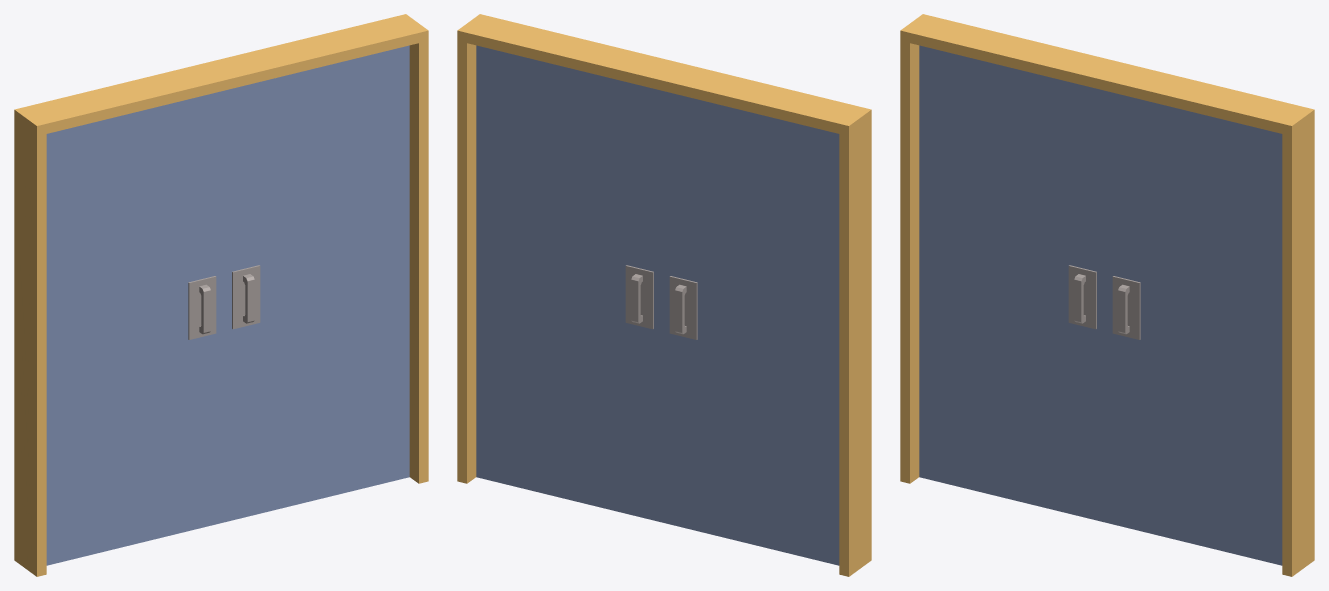
The model's file is DoorA.fbx.
The picture shows the model from 3 angles, left to right: view 1: azimuth 30°, elevation 25°; view 2: azimuth 150°, elevation 25°; view 3: azimuth 330°, elevation 25°; orthographic projection.
Parts seen in each view (by area): view 1: Puerta1, Puerta, Borde; view 2: Puerta1, Puerta, Borde; view 3: Puerta, Puerta1, Borde.
Part boxes in pixels (x1,y1,x2,y2): Puerta1: (223,45,409,522); Puerta: (46,91,223,565); Borde: (14,14,428,576); Puerta1: (476,45,662,522); Puerta: (662,91,839,565); Borde: (457,14,871,576); Puerta: (919,45,1105,522); Puerta1: (1105,91,1282,565); Borde: (900,14,1314,576).
Size of the model in its own units: 200 by 220 by 20.
